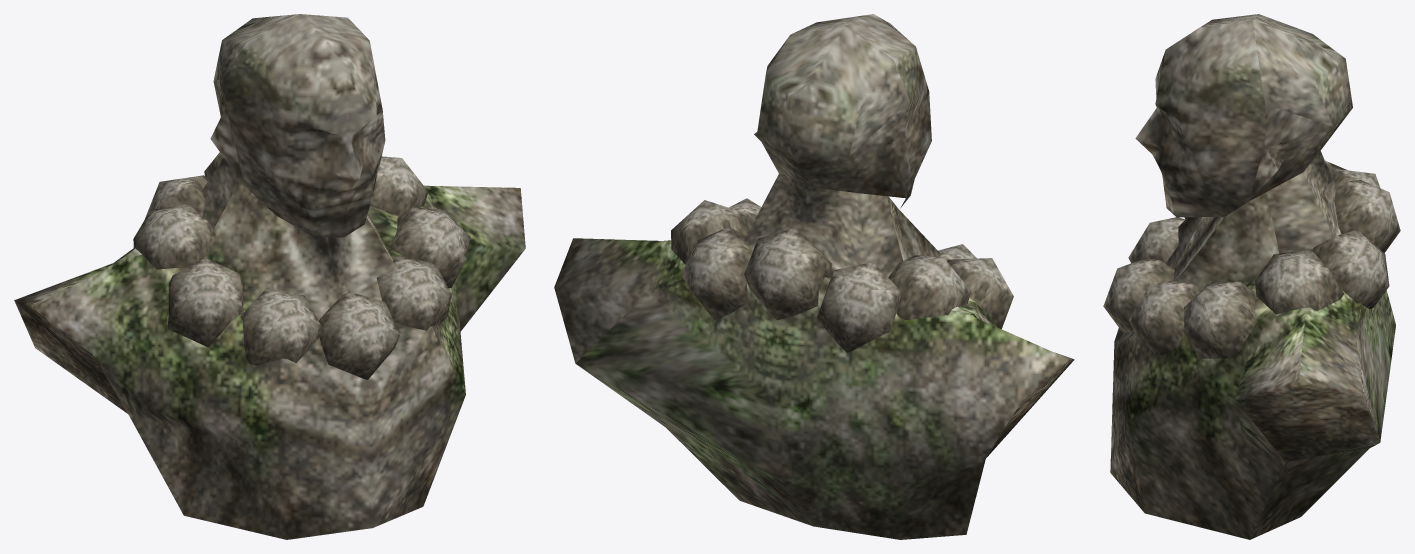
The model's file is general_obj_stoneimage01_lod_01.glb.
3 views of the same model, side by side, from view 1: azimuth 30°, elevation 25°; view 2: azimuth 150°, elevation 25°; view 3: azimuth 270°, elevation 25° (orthographic). The views are drawn at different scales.
Parts seen in each view (by area): view 1: Sphere01; view 2: Sphere01; view 3: Sphere01.
Part boxes in pixels (left/top/right/bottom): Sphere01: left=14, top=14, right=525, bottom=539; Sphere01: left=554, top=14, right=1074, bottom=539; Sphere01: left=1103, top=14, right=1400, bottom=539.
Size of the model in its own units: 5.85 by 5.41 by 3.15.
1 material, 1 textured.
